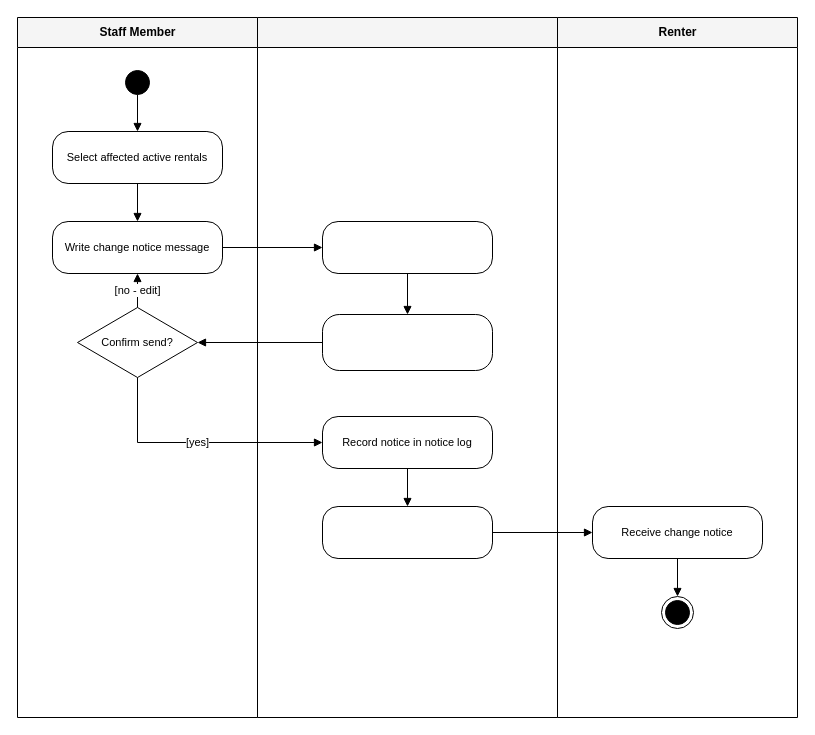
This 815x735 diagram has some shape labels left out. The box of each missing label's shape, as (x1, y1, x2, y2) in pixels:
Deliver notice to each renter: (322, 506, 492, 558)
Display recipients and message preview: (322, 314, 492, 370)
Retrieve renter contact details: (322, 220, 492, 274)
System: (256, 16, 558, 718)
